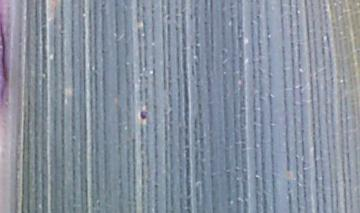tarspot: (138, 107, 149, 124)
